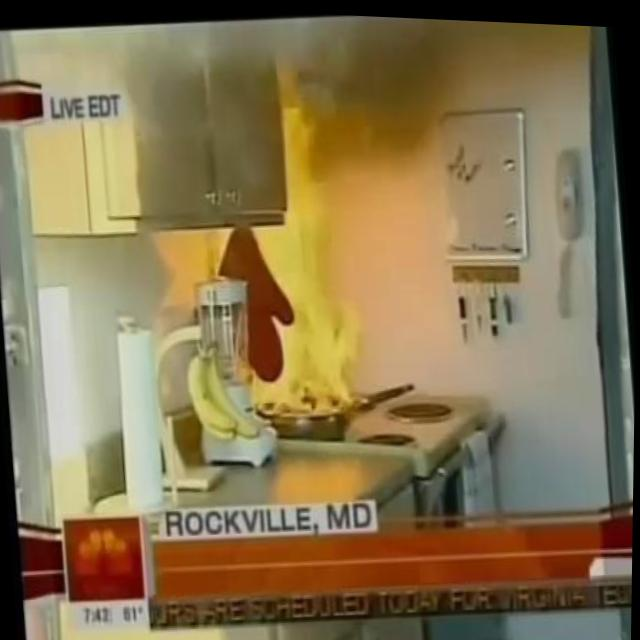fire: (216, 112, 376, 423)
